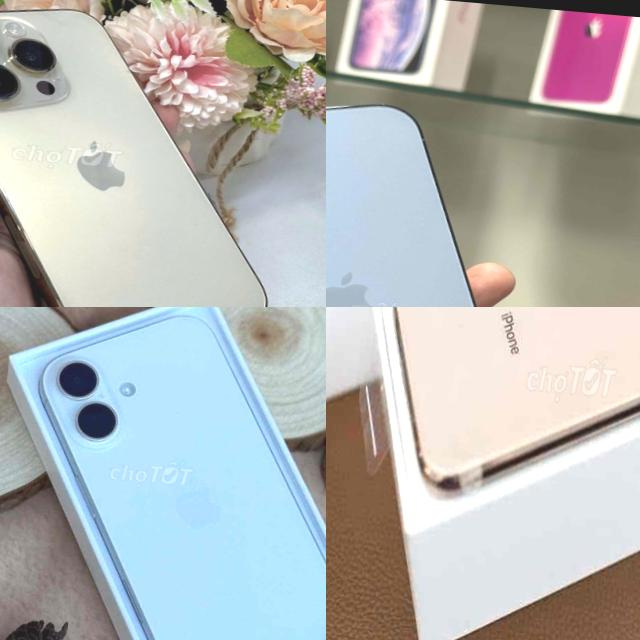gen_12_13: (326, 84, 560, 307)
gen_14: (0, 0, 300, 307)
gen_17: (0, 307, 326, 640)
gen_x_xs: (326, 307, 640, 516)
